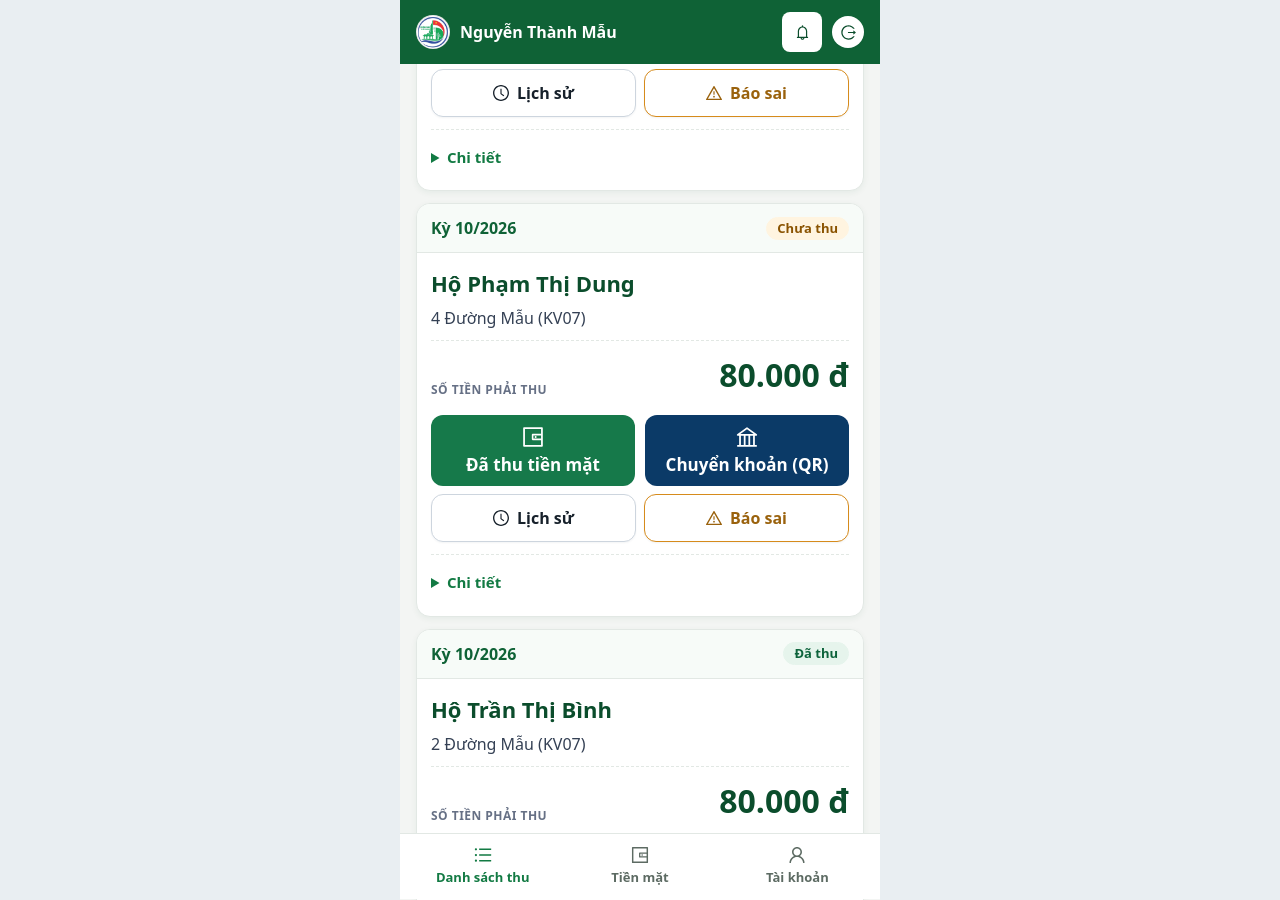
Test case: Người đi thu: tiền mặt › xã chưa khai tài khoản nhận chuyển khoản (409) thì báo rõ, không hiện QR
The width and height of the screenshot is (1280, 900).
(page scrolled)
Click the button "Chuyển khoản (QR)" at (747, 451), box x1=645 y1=415 x2=849 y2=486
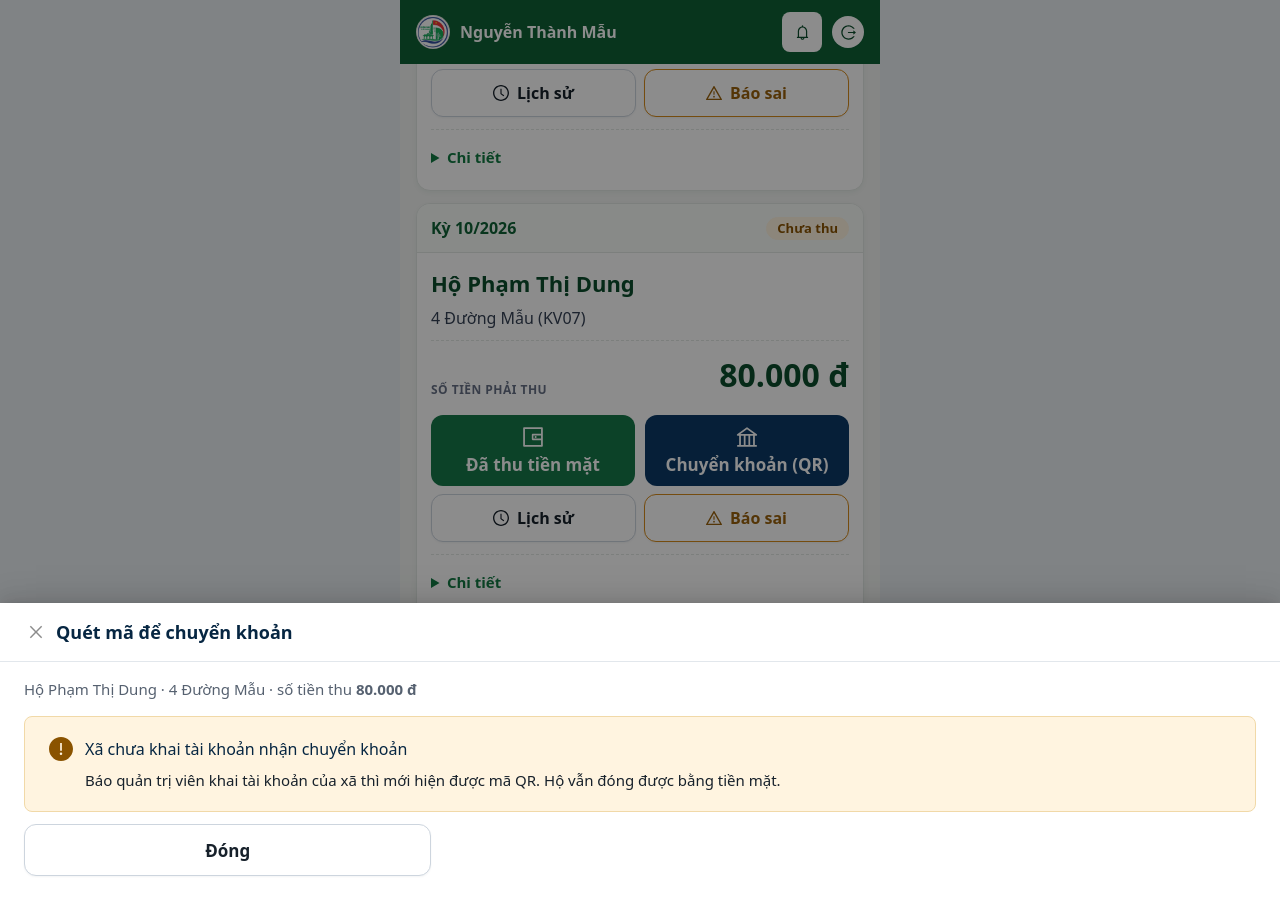
Now the text "Xã chưa khai tài khoản nhận chuyển khoản" is shown, box x1=85 y1=738 x2=407 y2=760
